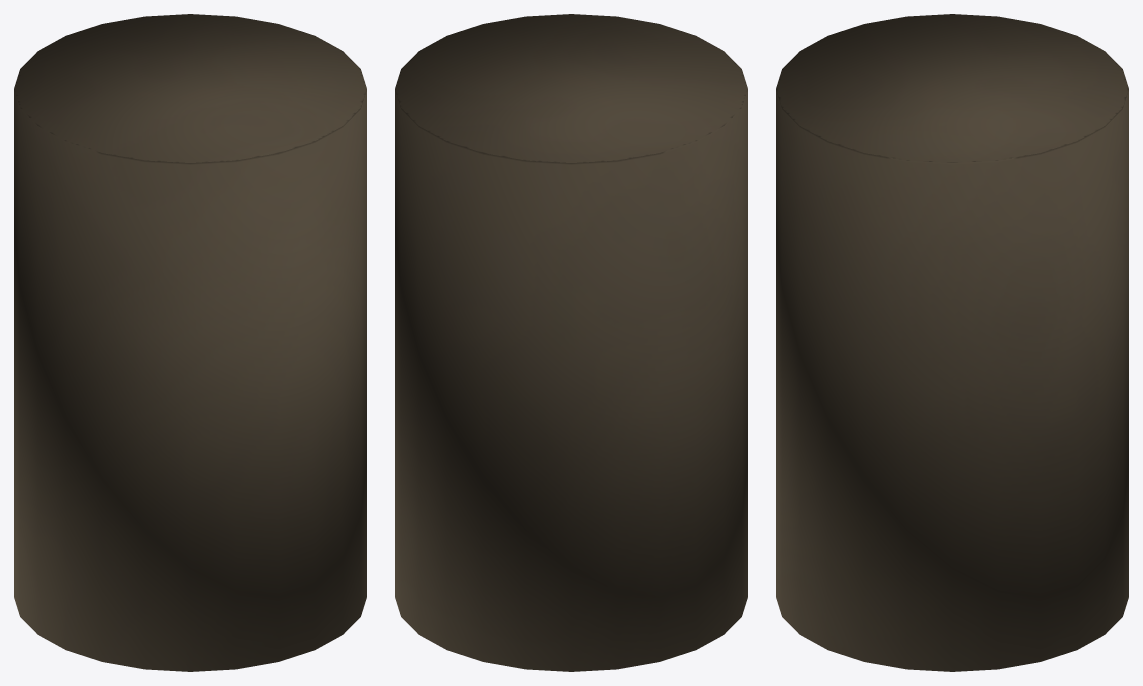
File: Earthen jar__n4.glb
3 renders of one model, left to right at view 1: azimuth 30°, elevation 25°; view 2: azimuth 150°, elevation 25°; view 3: azimuth 270°, elevation 25°, orthographic.
Parts seen in each view (by area): view 1: Earthen jar; view 2: Earthen jar; view 3: Earthen jar.
Part boxes in pixels (bbox=[...]): Earthen jar: bbox=[14, 14, 366, 671]; Earthen jar: bbox=[395, 14, 747, 671]; Earthen jar: bbox=[776, 14, 1128, 671].
Bounding box in the file's own units: 0.22 × 0.35 × 0.22.
1 material, 1 textured.
